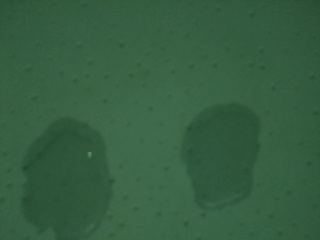Water_detected: (33, 132, 107, 227), (183, 117, 239, 186)
